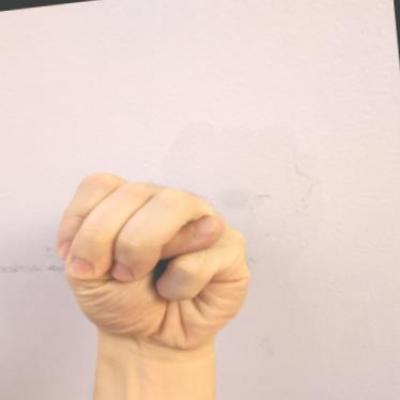hand: (44, 152, 262, 370)
